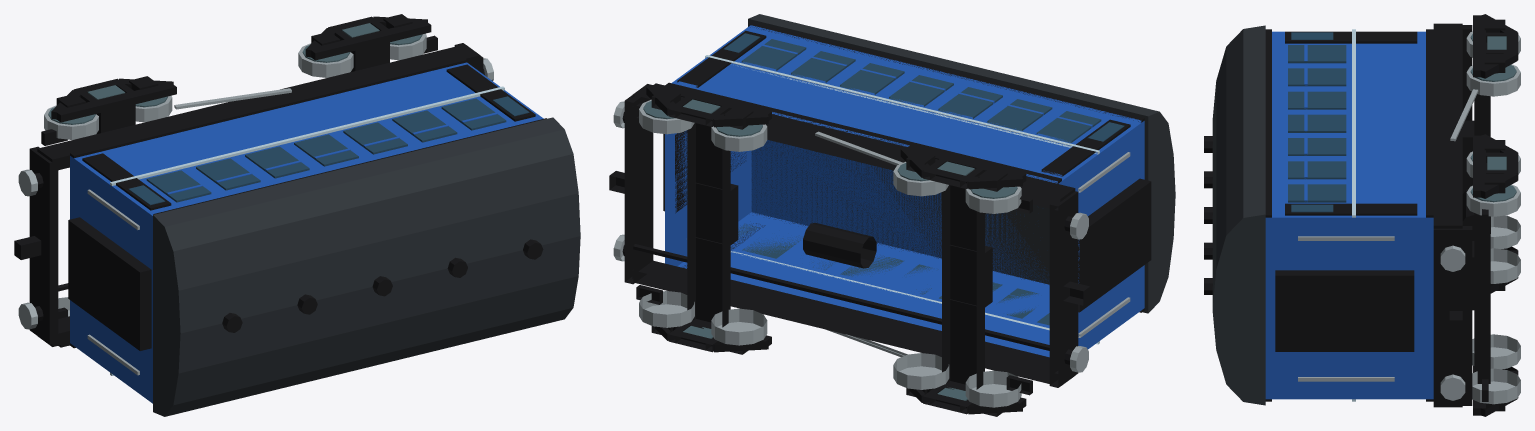
3 views of the same model, side by side, from view 1: azimuth 30°, elevation 25°; view 2: azimuth 150°, elevation 25°; view 3: azimuth 270°, elevation 25° (orthographic). The views are drawn at different scales.
Visible parts, largest first — view 1: default_roof, default_body, default_gangway-1, default_bogie-1, default_solebar1, default_bogie1, default_headstock-1, default_side1_-3.40_2.00, default_side1_-3.40_3.20, default_buffers-1, default_side1_-3.33_2.25, default_side1_2.97_2.25 (+9 smaller); view 2: default_body, default_bogie1, default_bogie-1, default_roof, default_solebar-1, default_gangway-1, default_headstock1, default_headstock-1, default_solebar1, default_brake_cylinder, default_brake_pipe, default_side1_-3.40_2.00 (+20 smaller); view 3: default_body, default_roof, default_gangway1, default_bogie1, default_bogie-1, default_solebar1, default_headstock1, default_side1_-3.40_2.00, default_buffers1, default_side1_2.97_2.25, default_side1_-3.33_2.25, default_side1_-3.40_4.50 (+16 smaller).
Boxes of the visible parts, x1=… form: default_roof: x1=153, y1=117, x2=580, y2=416; default_body: x1=70, y1=62, x2=543, y2=403; default_gangway-1: x1=68, y1=217, x2=151, y2=350; default_bogie-1: x1=44, y1=76, x2=176, y2=347; default_solebar1: x1=37, y1=44, x2=480, y2=170; default_bogie1: x1=298, y1=14, x2=431, y2=77; default_headstock-1: x1=29, y1=146, x2=58, y2=344; default_side1_-3.40_2.00: x1=70, y1=57, x2=466, y2=158; default_side1_-3.40_3.20: x1=110, y1=86, x2=504, y2=185; default_buffers-1: x1=14, y1=169, x2=43, y2=329; default_side1_-3.33_2.25: x1=82, y1=153, x2=171, y2=210; default_side1_2.97_2.25: x1=446, y1=64, x2=535, y2=121; default_body: x1=665, y1=25, x2=1144, y2=357; default_bogie1: x1=639, y1=83, x2=771, y2=354; default_bogie-1: x1=893, y1=145, x2=1026, y2=416; default_roof: x1=748, y1=14, x2=1175, y2=313; default_solebar-1: x1=632, y1=260, x2=1072, y2=385; default_gangway-1: x1=1078, y1=178, x2=1151, y2=312; default_headstock1: x1=624, y1=95, x2=653, y2=284; default_headstock-1: x1=1049, y1=191, x2=1078, y2=387; default_solebar1: x1=632, y1=84, x2=1075, y2=210; default_brake_cylinder: x1=803, y1=222, x2=876, y2=268; default_brake_pipe: x1=633, y1=244, x2=1049, y2=350; default_side1_-3.40_2.00: x1=665, y1=82, x2=1061, y2=183; default_body: x1=1265, y1=31, x2=1433, y2=399; default_roof: x1=1212, y1=25, x2=1265, y2=405; default_gangway1: x1=1275, y1=270, x2=1414, y2=351; default_bogie1: x1=1466, y1=134, x2=1520, y2=416; default_bogie-1: x1=1466, y1=14, x2=1520, y2=293; default_solebar1: x1=1433, y1=23, x2=1462, y2=228; default_headstock1: x1=1433, y1=226, x2=1472, y2=405; default_side1_-3.40_2.00: x1=1426, y1=29, x2=1433, y2=217; default_buffers1: x1=1440, y1=245, x2=1465, y2=400; default_side1_2.97_2.25: x1=1285, y1=203, x2=1417, y2=215; default_side1_-3.33_2.25: x1=1285, y1=31, x2=1417, y2=43; default_side1_-3.40_4.50: x1=1265, y1=29, x2=1271, y2=217.
Bounding box in the file's own units: 8.2 × 3.9 × 4.9.
